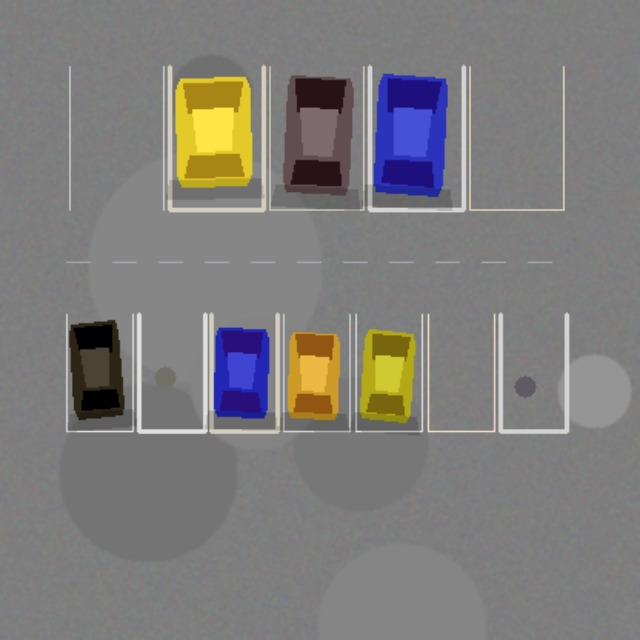space-empty: (69, 66, 163, 209), (469, 66, 563, 209), (138, 314, 205, 431), (428, 314, 494, 431), (500, 314, 566, 431)
space-occupied: (169, 66, 263, 209), (269, 66, 363, 209), (369, 66, 463, 209), (355, 314, 422, 431), (66, 314, 132, 431), (211, 314, 277, 431), (283, 314, 349, 431)
